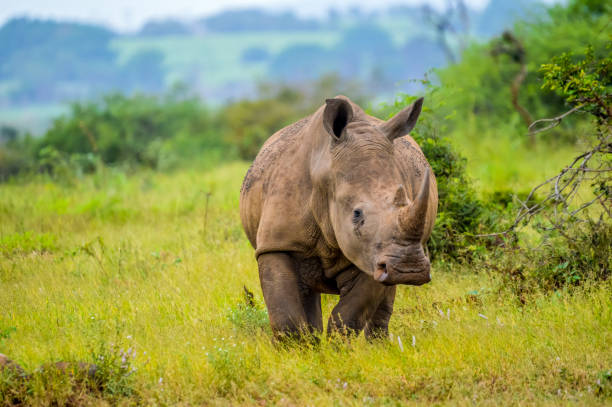rhino: (304, 89, 471, 295)
